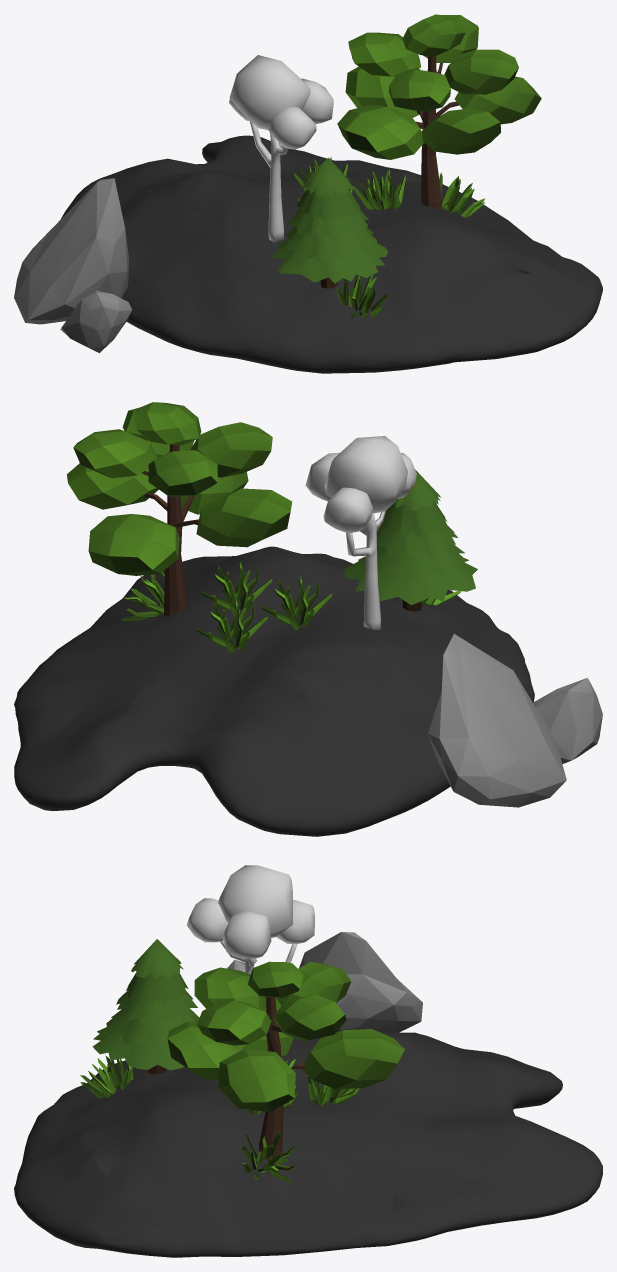
Rendered from Tv_Saari1.fbx.
The picture shows the model from 3 angles, top to bottom: view 1: azimuth 30°, elevation 25°; view 2: azimuth 150°, elevation 25°; view 3: azimuth 270°, elevation 25°; orthographic projection. The views are drawn at different scales.
Parts seen in each view (by area): view 1: Circle.001; view 2: Circle.001; view 3: Circle.001.
Boxes of the visible parts, left/top/right/bottom form: Circle.001: left=14, top=14, right=602, bottom=373; Circle.001: left=14, top=402, right=602, bottom=836; Circle.001: left=14, top=865, right=602, bottom=1257.
Size of the model in its own units: 2546 by 1287 by 2612.
